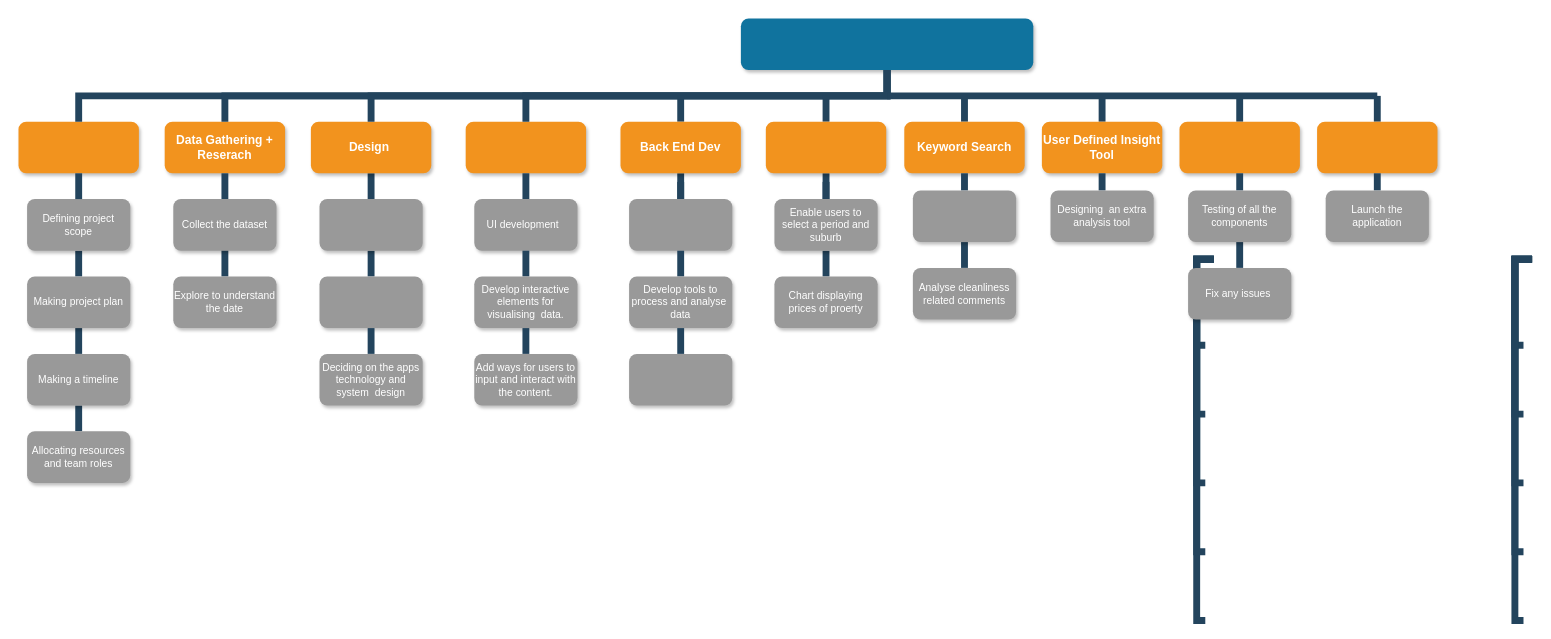
This 1551x639 diagram has some shape labels left out. Each missing label, with the centre of its shape:
"Adding a feature that allows users to search using keywords." goes at (965,217).
"Developing API's" goes at (681,380).
"Establish the server and database on the backend." goes at (681,225).
"Front End Dev" goes at (526,148).
"Initialisation + Planning" goes at (79,148).
"Launching" goes at (1377,148).
"MAIN PROJECT" goes at (887,45).
"Period Analysis" goes at (826,148).
"Planning the algorithm" goes at (371,303).
"Testing" goes at (1240,148).
"Ui designing" goes at (371,225).
